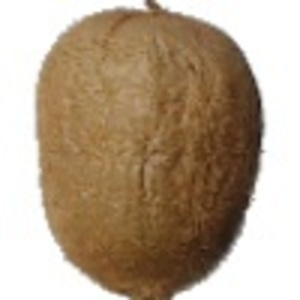kiwi: (33, 1, 267, 300)
